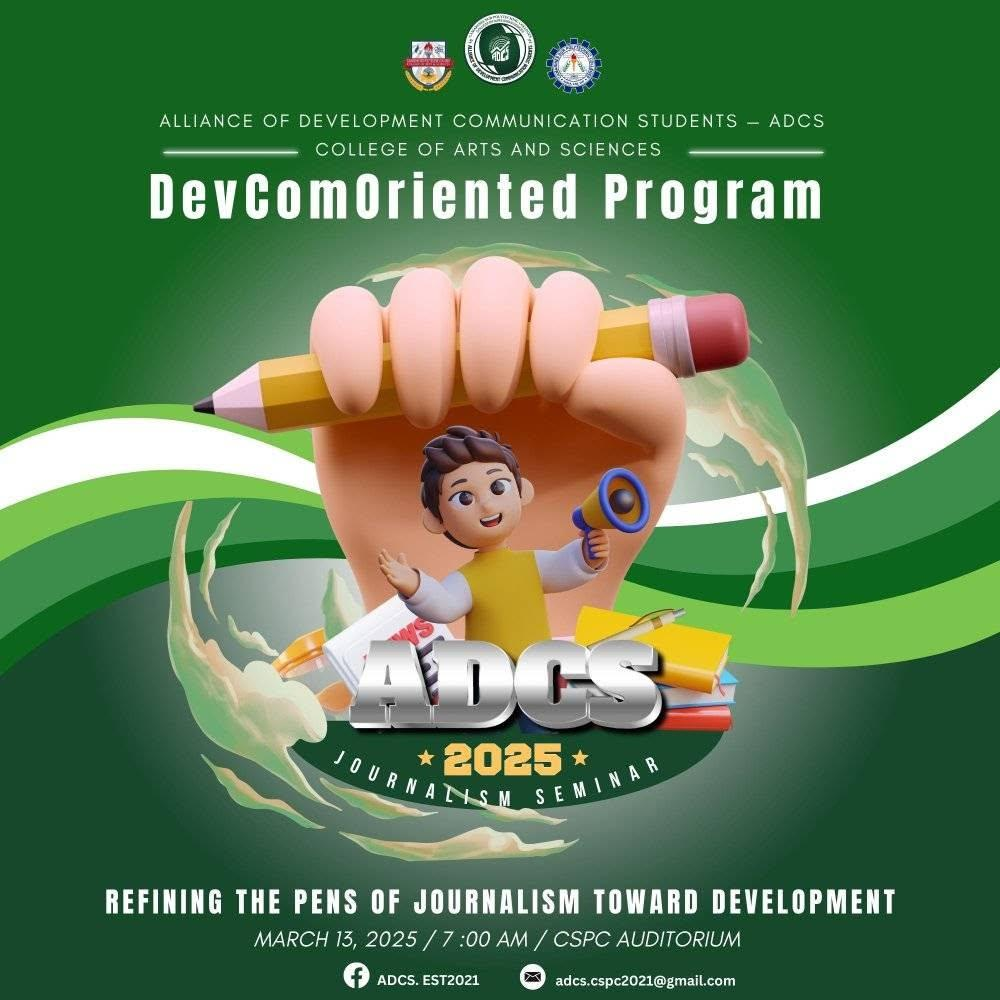embellishment: (0, 229, 999, 867)
logo: (461, 5, 540, 91), (541, 32, 606, 96), (397, 32, 460, 98), (517, 959, 549, 992), (341, 959, 372, 990)
text: (310, 623, 683, 816), (307, 627, 679, 814), (142, 167, 836, 230), (154, 101, 836, 165), (99, 878, 907, 924), (248, 923, 750, 955), (553, 970, 741, 991), (373, 970, 482, 989)
underlay: (324, 717, 677, 808)
